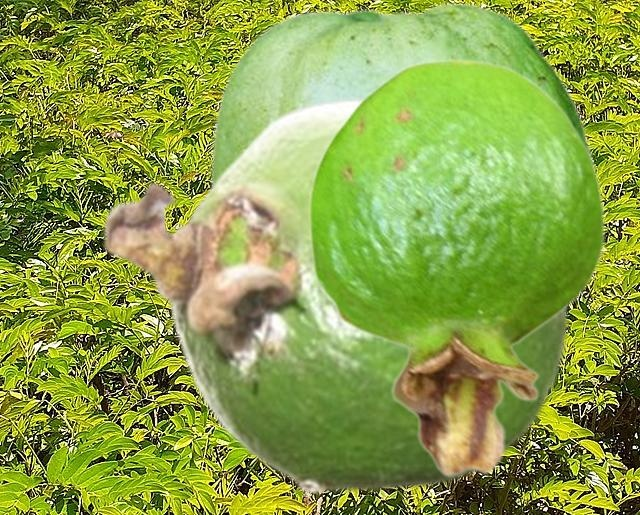guava: (100, 95, 571, 494), (307, 57, 605, 477), (209, 2, 594, 184)
